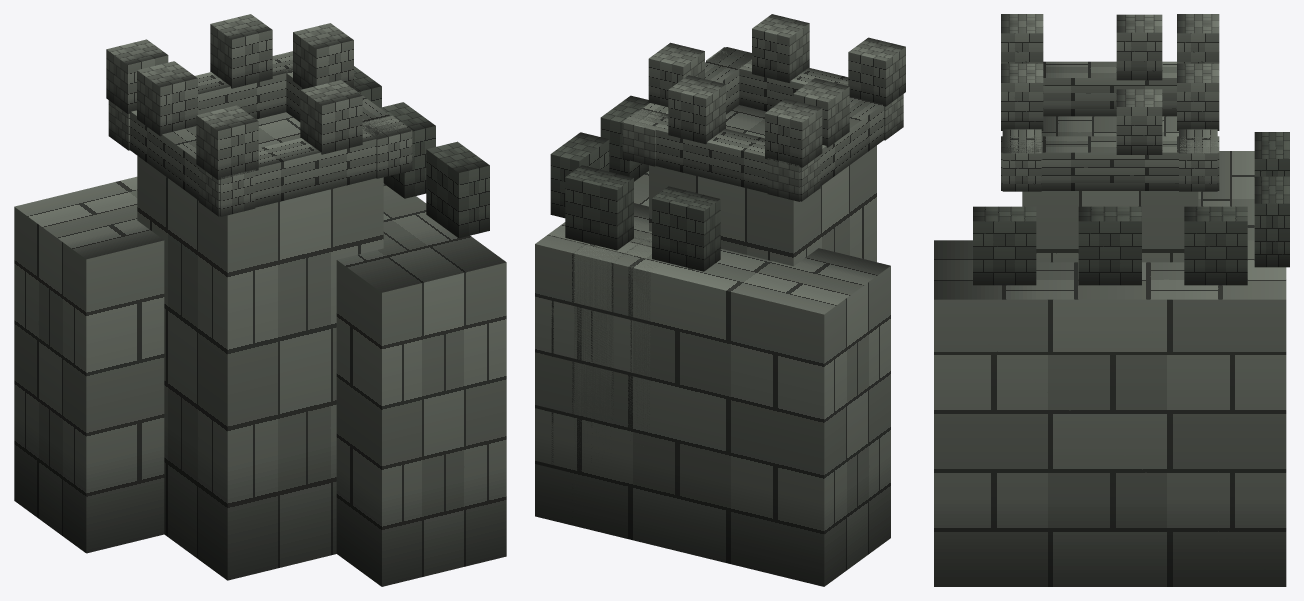
Rendered from wall_corner.glb.
3 renders of one model, left to right at view 1: azimuth 30°, elevation 25°; view 2: azimuth 150°, elevation 25°; view 3: azimuth 270°, elevation 25°, orthographic. The views are drawn at different scales.
Parts seen in each view (by area): view 1: wall_corner; view 2: wall_corner; view 3: wall_corner.
Boxes of the visible parts, <box> form: wall_corner: <box>14,14,506,586</box>; wall_corner: <box>535,14,905,586</box>; wall_corner: <box>934,14,1289,586</box>.
Bounding box in the file's own units: 1.01 × 1.42 × 1.01.
1 material, 1 textured.
